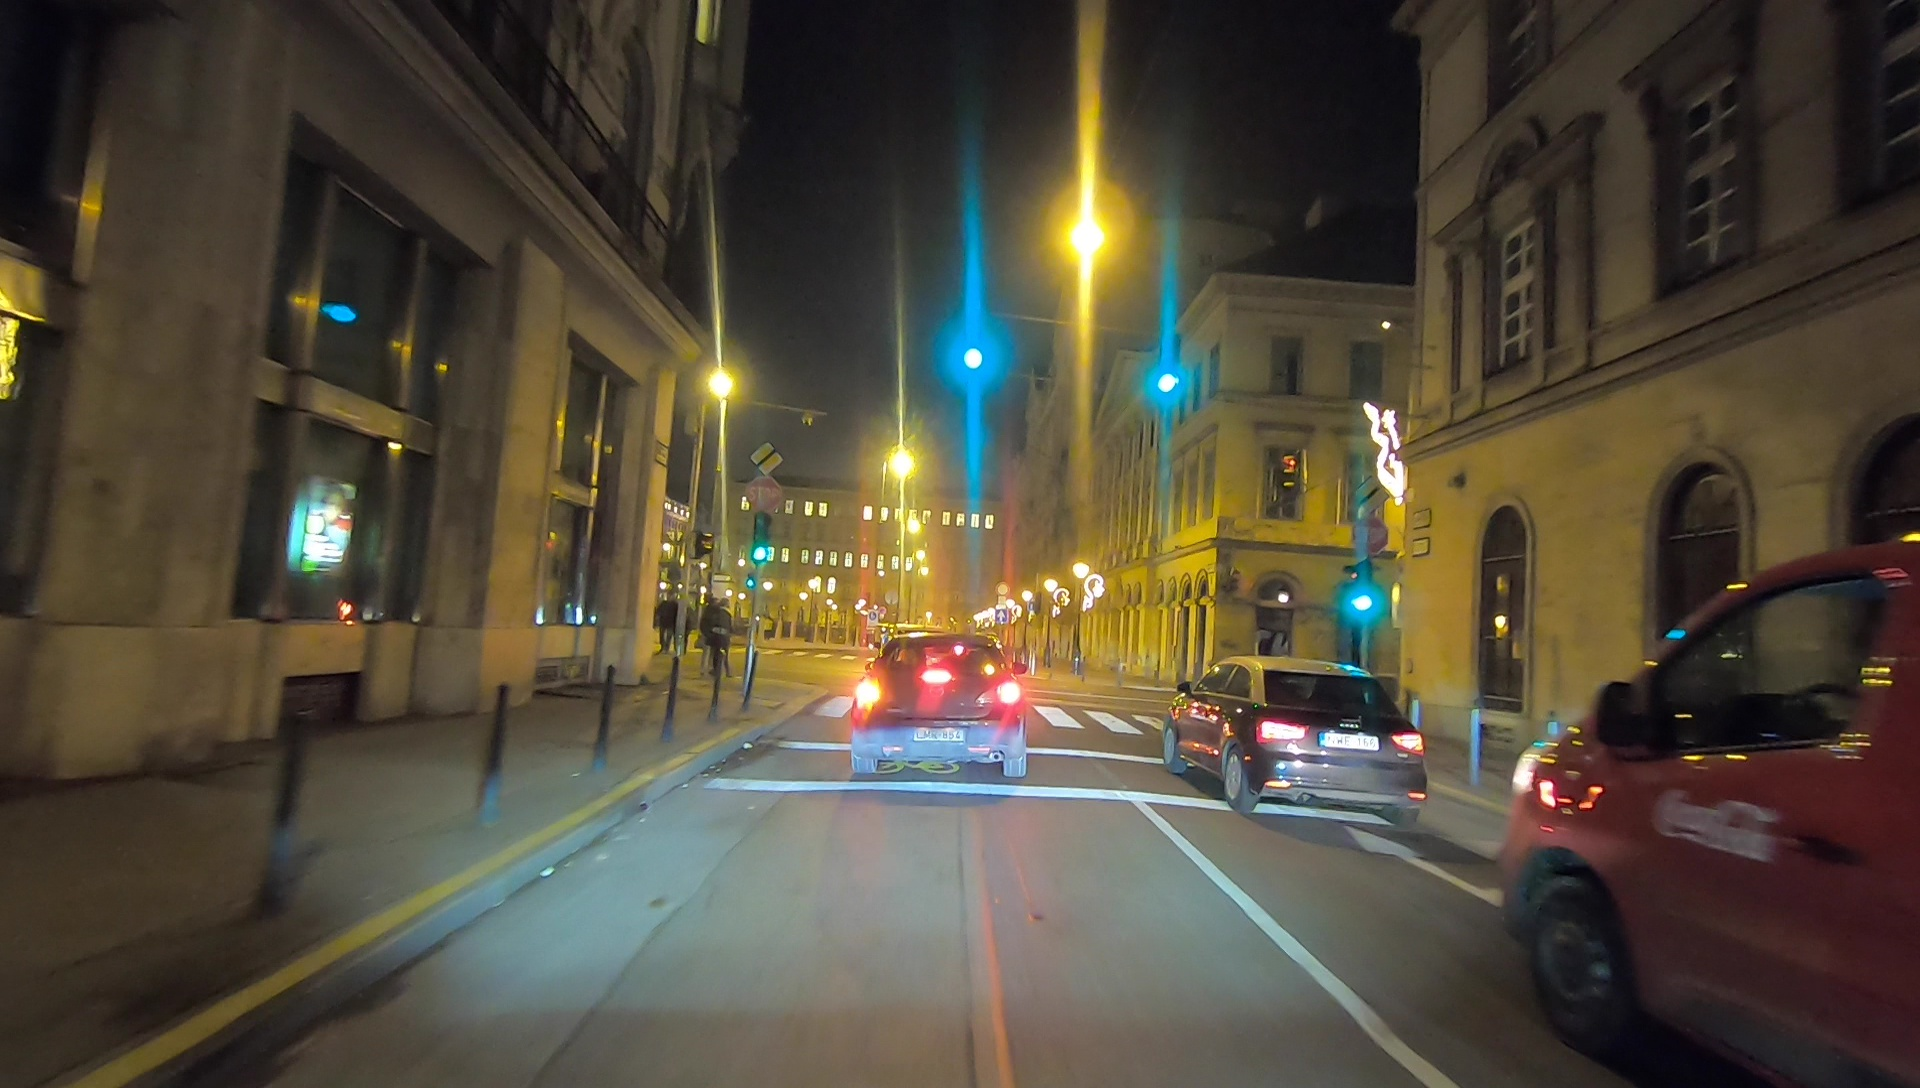person: (701, 593, 738, 682), (660, 593, 678, 654)
